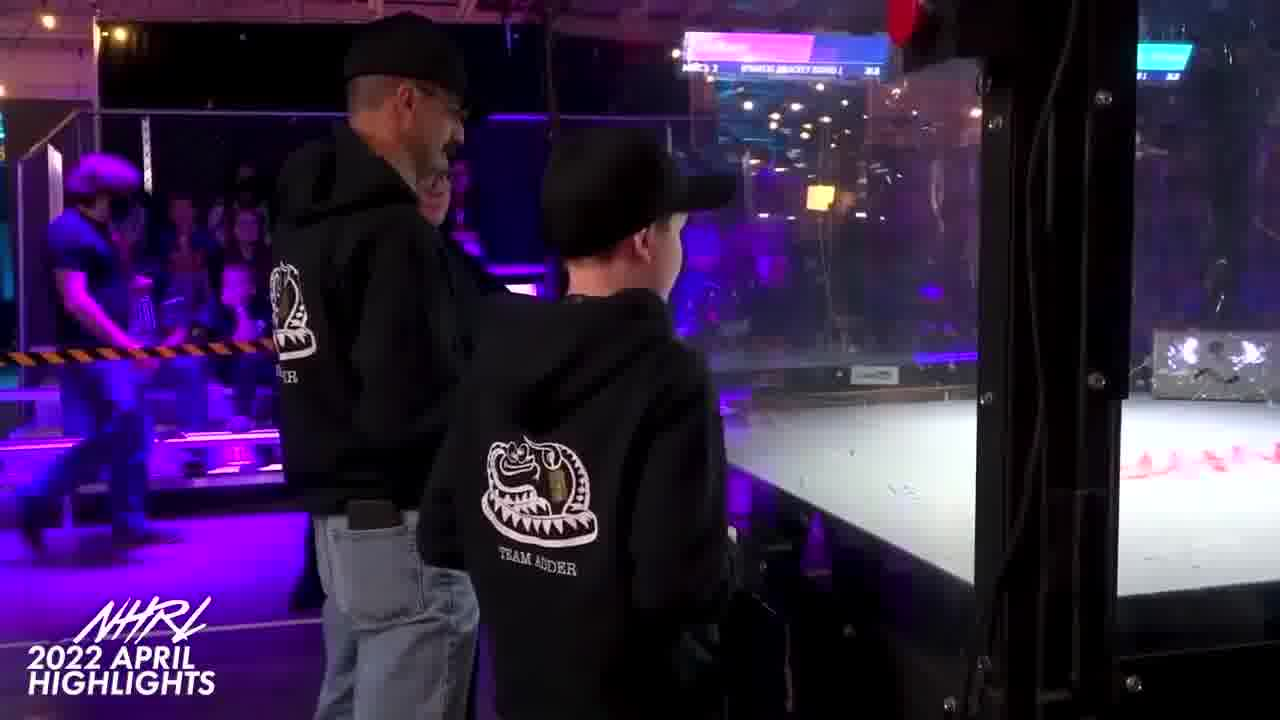housebot: (1147, 328, 1276, 402)
